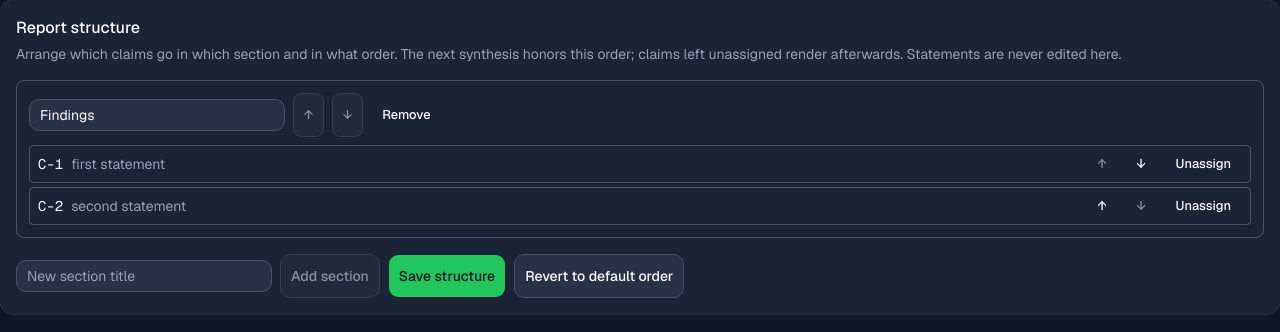
it: StructureEditor › reorders claims within a section and saves the recorded order
Expected: the text "first statement" is shown, left=71, top=155, right=165, bottom=173
Click the button named "Move C-1 down in Findings": click(1141, 164) left=1126, top=150, right=1157, bottom=178
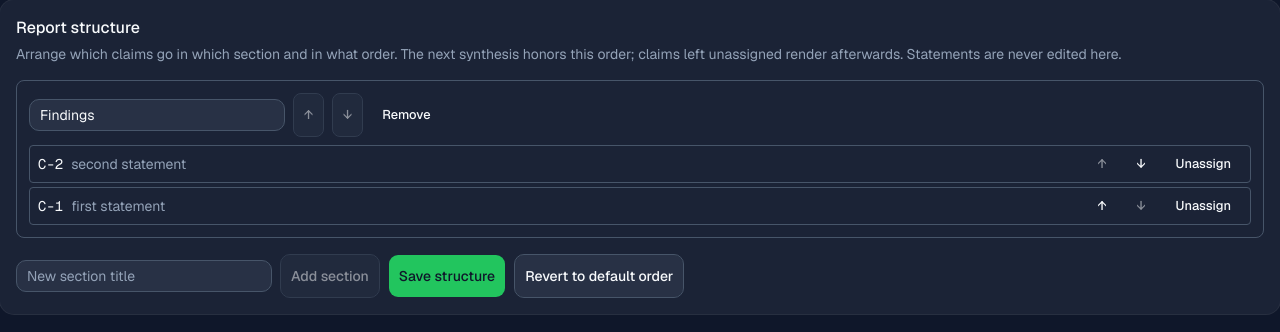
Click the button "Save structure": click(447, 276) left=388, top=254, right=506, bottom=298
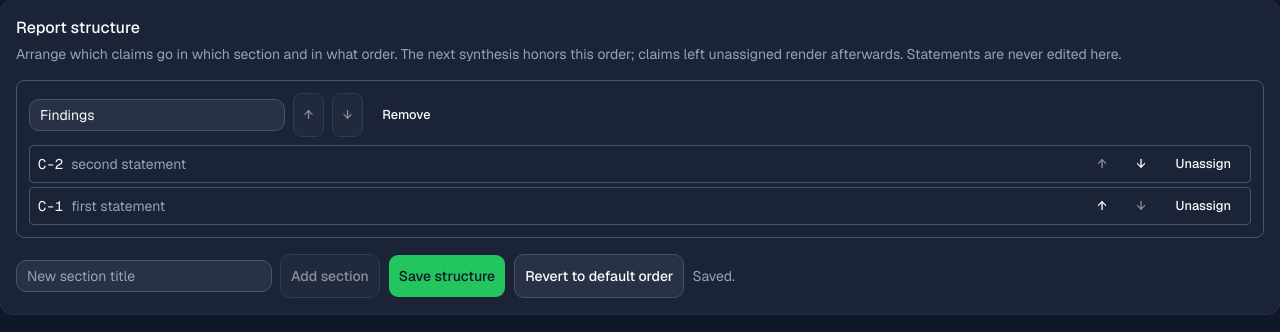
Expected: the text "Saved." is shown, left=692, top=266, right=735, bottom=286
